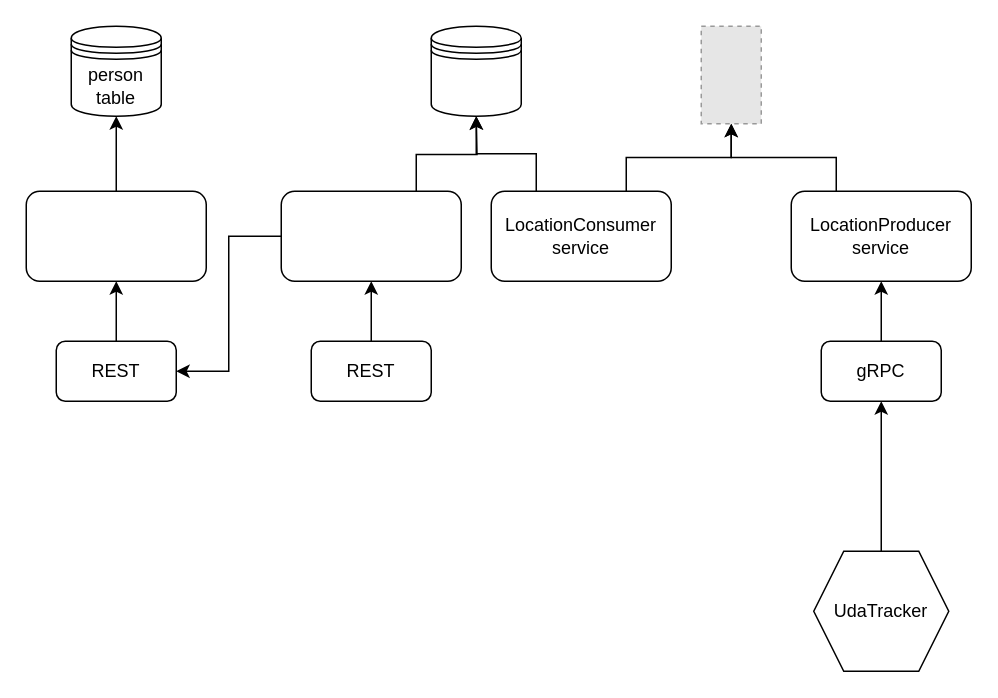
The diagram is 998 pixels wide and 698 high, and some of its shapes have lost their labels. Grey dashed boxes stand in for pictures. The box of each missing label's shape, as (x1, y1, x2, y2) in pixels:
Connection service: (280, 190, 461, 281)
location table: (430, 25, 521, 116)
Person service: (25, 190, 206, 281)
